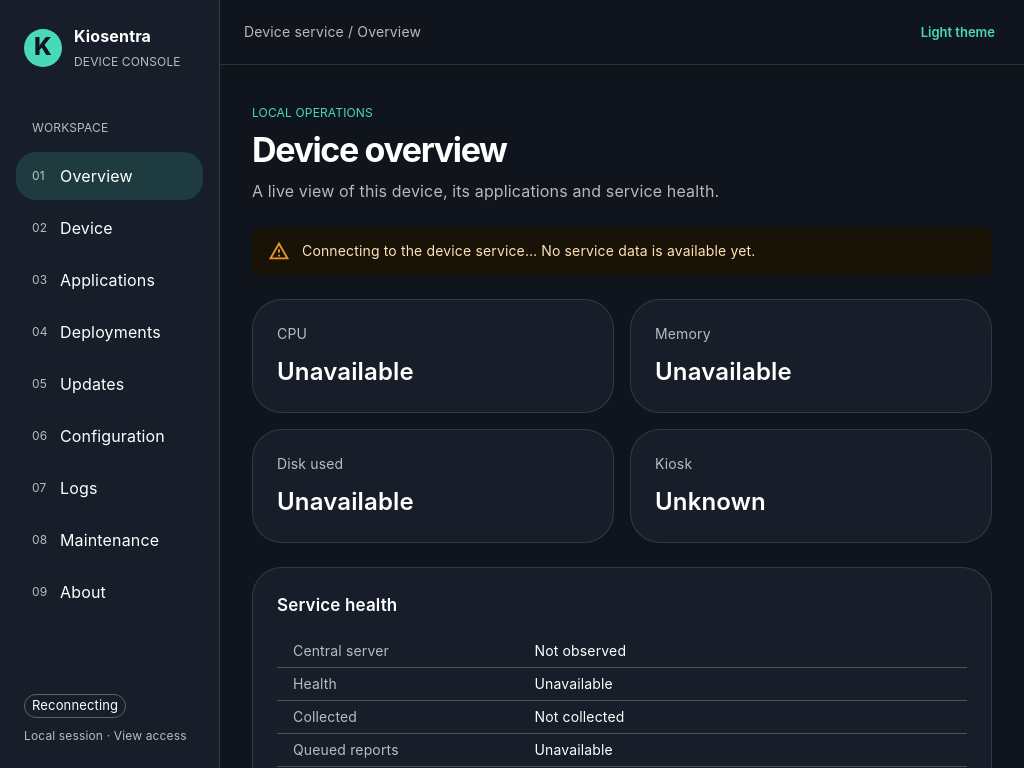
Test case: Local console › maintenance remains unavailable without a live service
Click the text "Maintenance". click: (110, 540)
box: [60,530,159,550]
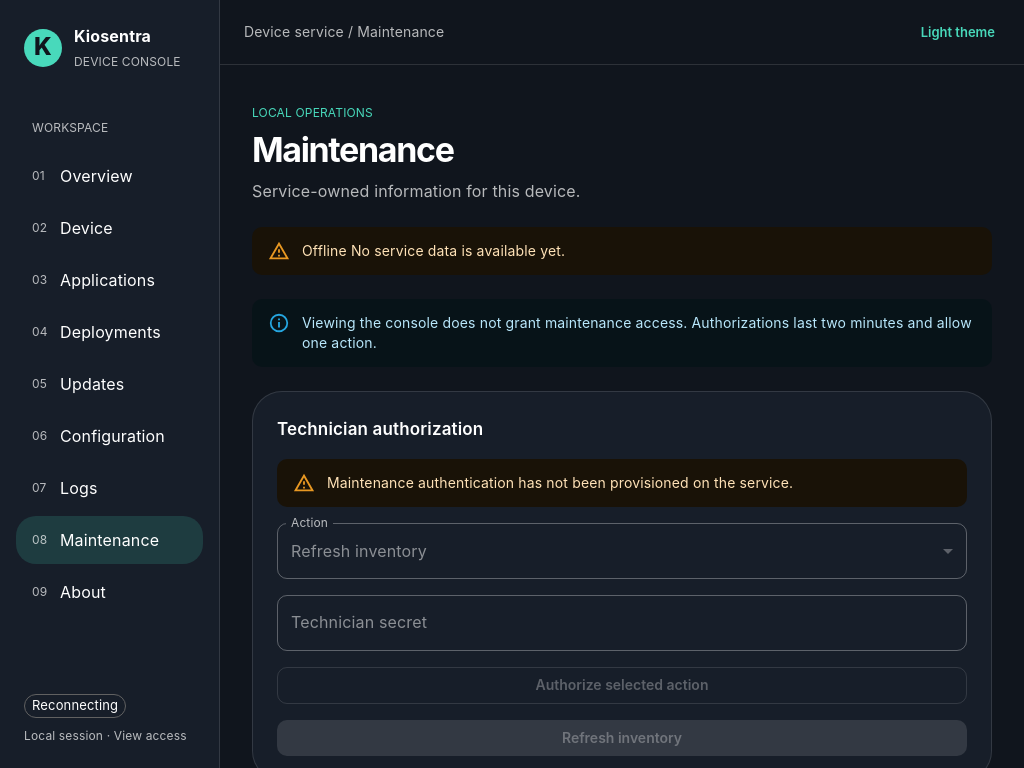
Check: the button "Authorize selected action" is disabled, box [277,667,967,704]
Check: the button "Refresh inventory" is disabled, box [277,720,967,756]
